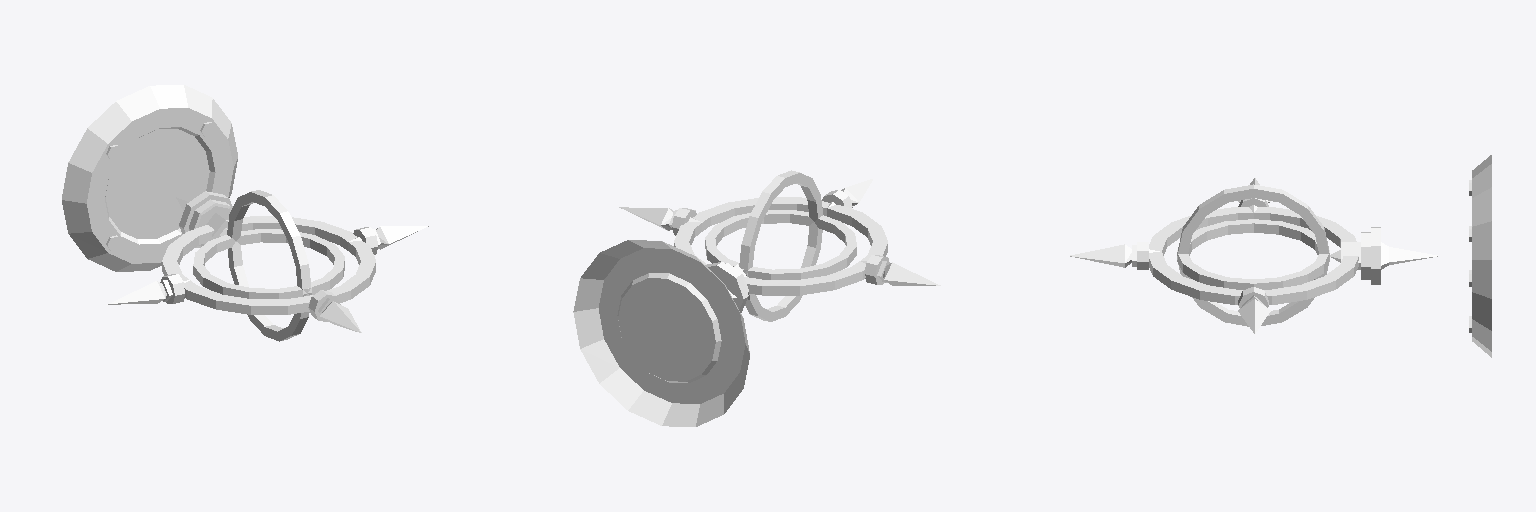
3 views of the same model, side by side, from view 1: azimuth 30°, elevation 25°; view 2: azimuth 150°, elevation 25°; view 3: azimuth 270°, elevation 25° (orthographic).
Visible parts, largest first — view 1: head, vertical, vertical2; view 2: head, vertical, vertical2; view 3: vertical, vertical2, head.
Part boxes in pixels (x1,y1,x2,y2): head: (62, 85, 237, 271); vertical: (107, 191, 428, 332); vertical2: (193, 190, 344, 341); head: (573, 240, 749, 426); vertical: (619, 179, 940, 312); vertical2: (705, 170, 856, 321); vertical: (1070, 178, 1437, 333); vertical2: (1177, 184, 1329, 326); head: (1469, 155, 1491, 357).
Bounding box in the file's own units: 3.65 × 2 × 4.15.